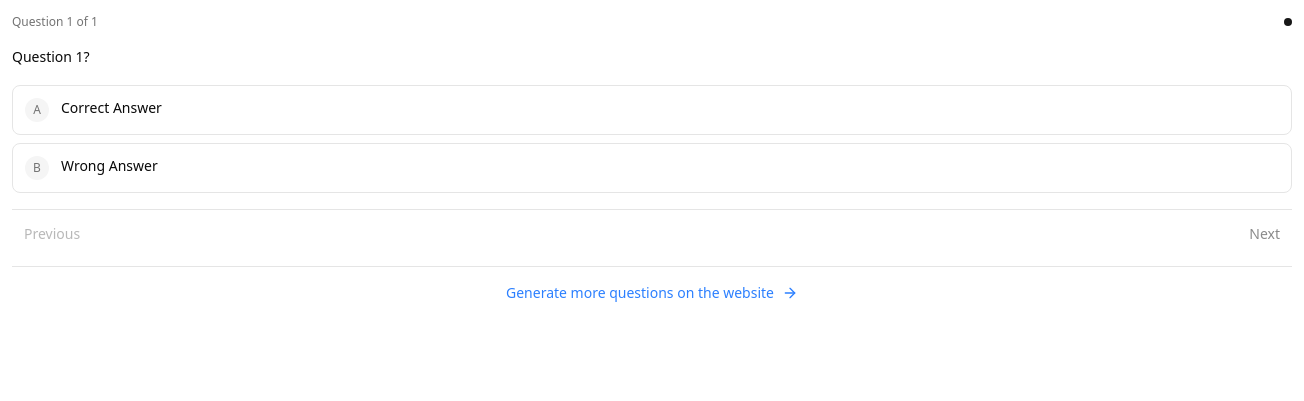
Test case: QuizView › option selection and feedback › shows incorrect feedback when selecting wrong answer
Click the text "Wrong Answer" at (109, 165), box [61,156,158,175]
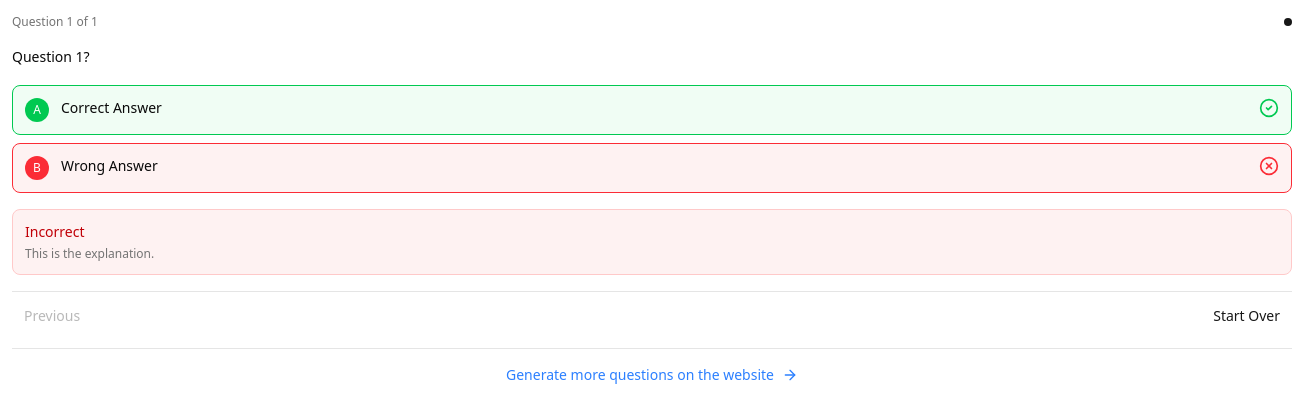
Check: the text "Incorrect" is shown, box [25,222,84,241]
Check: the text "This is the explanation." is shown, box [25,245,154,262]
